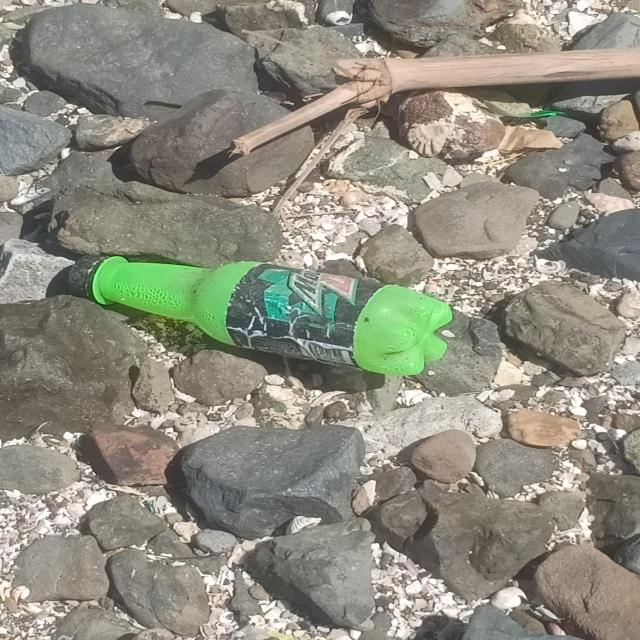plastic_waste: (71, 254, 454, 374)
